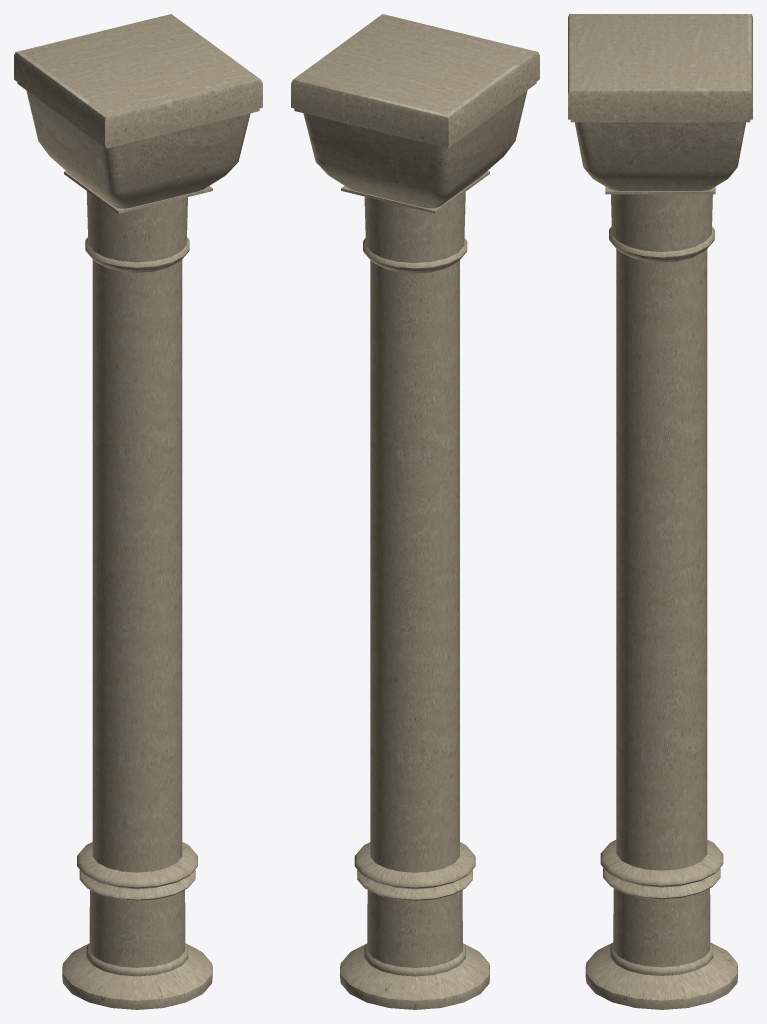
The model's file is Column.fbx.
The picture shows the model from 3 angles, left to right: view 1: azimuth 30°, elevation 25°; view 2: azimuth 150°, elevation 25°; view 3: azimuth 270°, elevation 25°; orthographic projection.
Parts seen in each view (by area): view 1: column; view 2: column; view 3: column.
Part boxes in pixels (x1,y1,x2,y2): column: (14,14,262,1009); column: (291,14,539,1009); column: (568,14,752,1009).
Bounding box in the file's own units: 50.28 × 278 × 50.28.
1 material, 1 textured.
